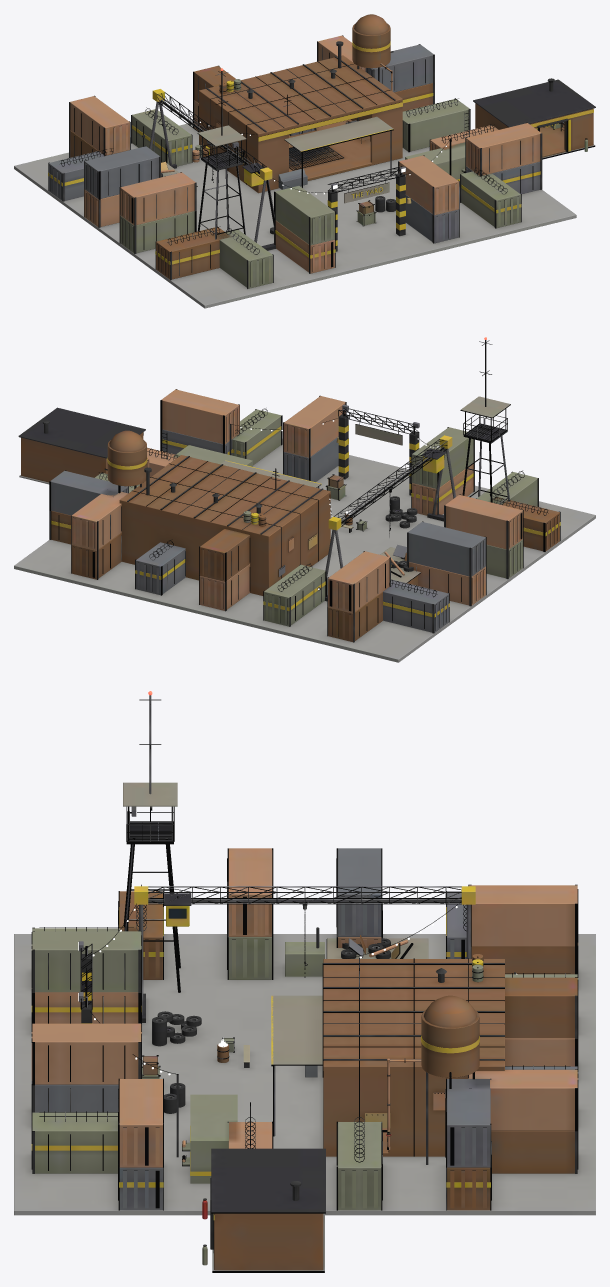
The model's file is yard.glb.
3 renders of one model, top to bottom at view 1: azimuth 30°, elevation 25°; view 2: azimuth 150°, elevation 25°; view 3: azimuth 270°, elevation 25°, orthographic. The views are drawn at different scales.
Parts seen in each view (by area): view 1: hull; view 2: hull; view 3: hull.
Boxes of the visible parts, x1,y1,x2,y2 form: hull: (14, 14, 595, 308); hull: (14, 340, 595, 662); hull: (14, 695, 595, 1272).
Bounding box in the file's own units: 44.18 × 17.82 × 32.
Materials: 21 (17 with a texture image).
